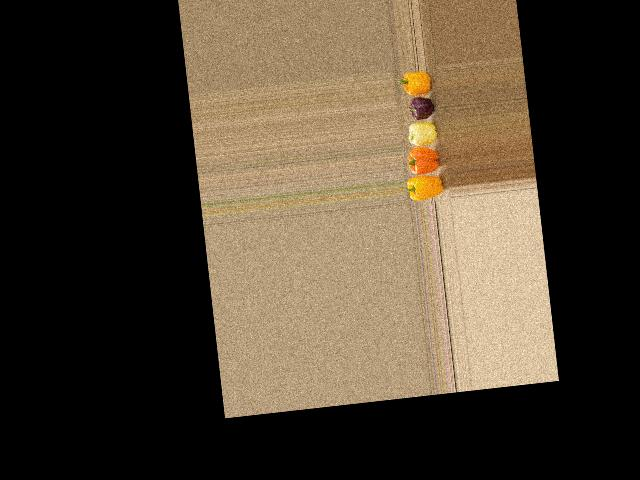bell_pepper: (396, 67, 437, 95)
